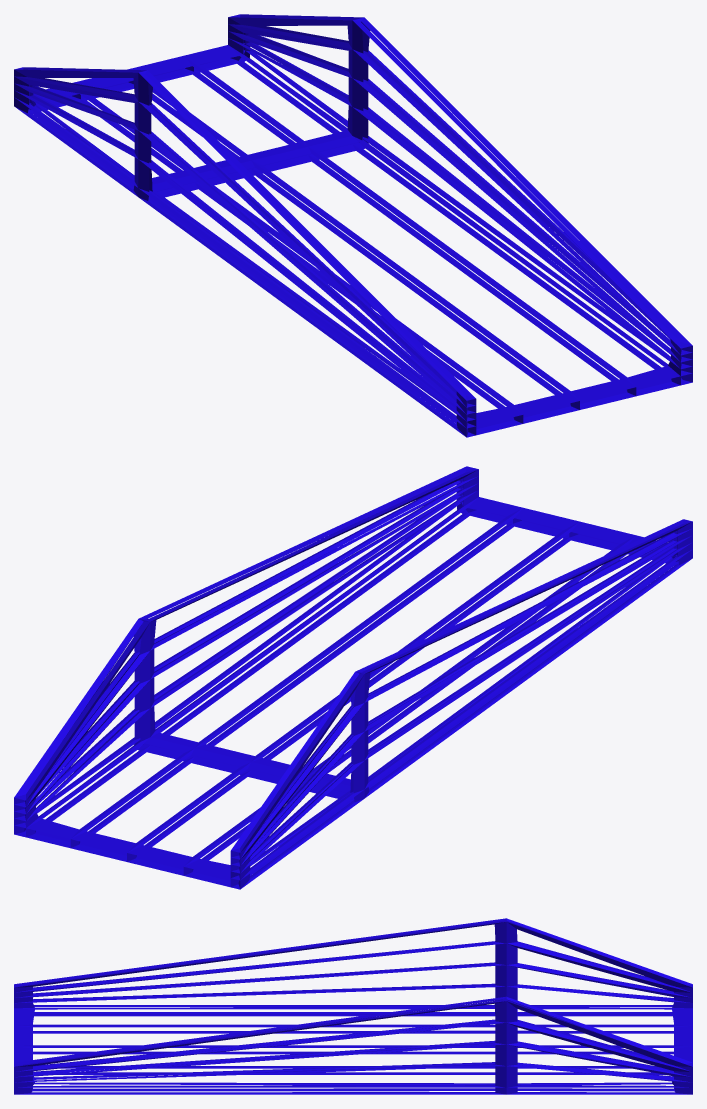
File: Steel Movable.fbx
3 views of the same model, one above another, from view 1: azimuth 30°, elevation 25°; view 2: azimuth 150°, elevation 25°; view 3: azimuth 270°, elevation 25° (orthographic). The views are drawn at different scales.
Parts seen in each view (by area): view 1: Steel Movable; view 2: Steel Movable; view 3: Steel Movable.
Part boxes in pixels (x1,y1,x2,y2): Steel Movable: [14, 14, 692, 437]; Steel Movable: [14, 466, 692, 889]; Steel Movable: [14, 918, 692, 1094].
Bounding box in the file's own units: 57.7 × 30.39 × 200.
